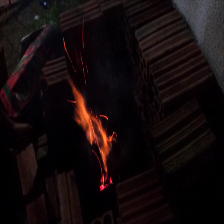fire: (67, 81, 112, 175)
